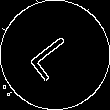L_NE: (26, 27, 84, 82)
